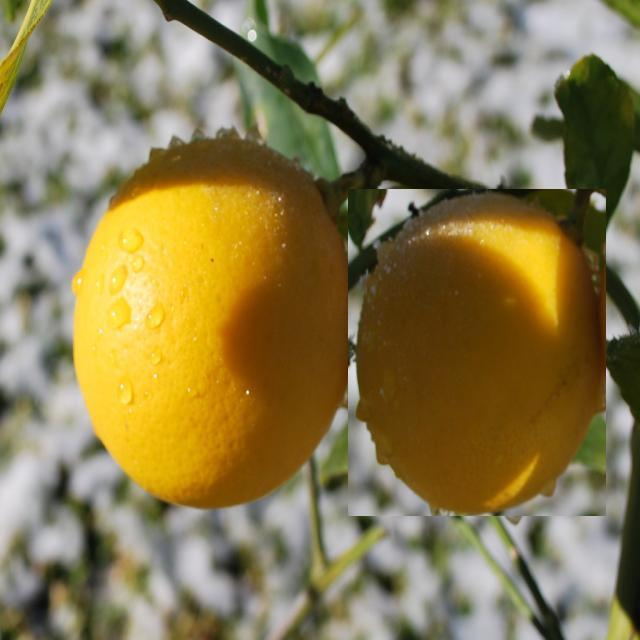Orange: (68, 126, 356, 511), (348, 189, 606, 516)
